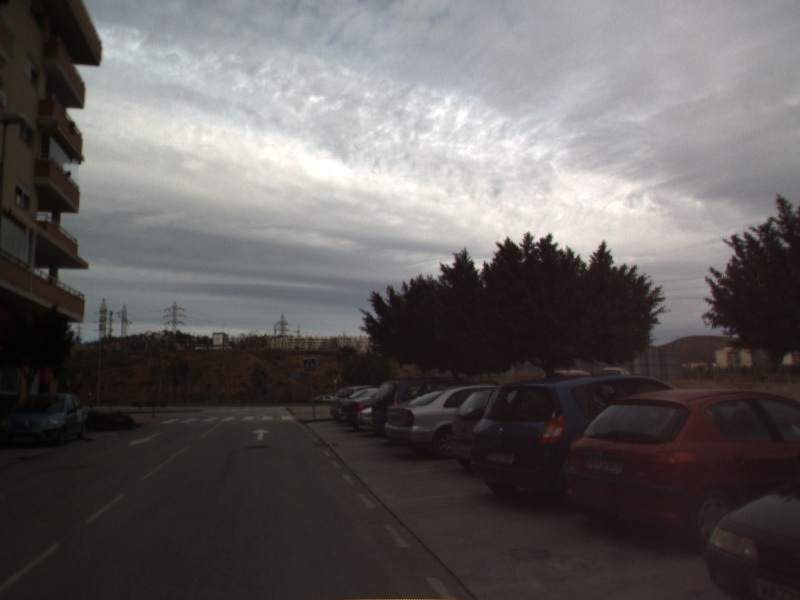STRAIGHT: (250, 427, 273, 442)
